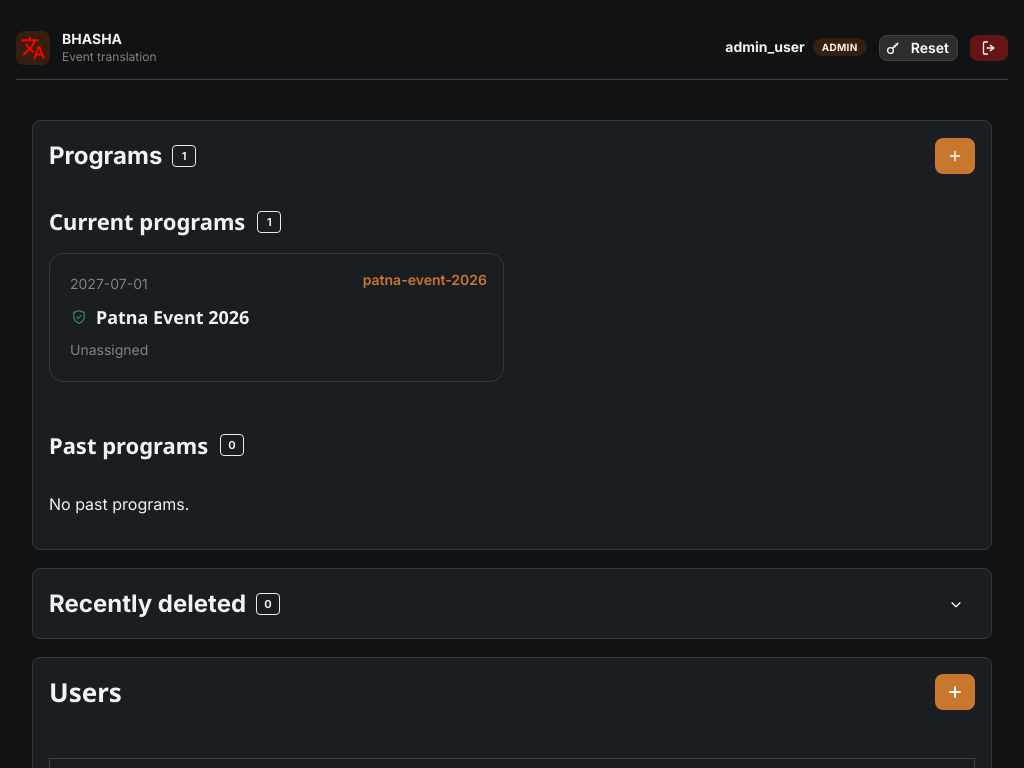
Test: AdminScreen › shows the add-program action for admin accounts (both roles can now create programs)
This screenshot has width=1024, height=768.
expect the heading "Patna Event 2026" is shown: met, box [96,304,249,330]
Click the button named "Add program".
click(955, 156)  # box [935,138,975,174]
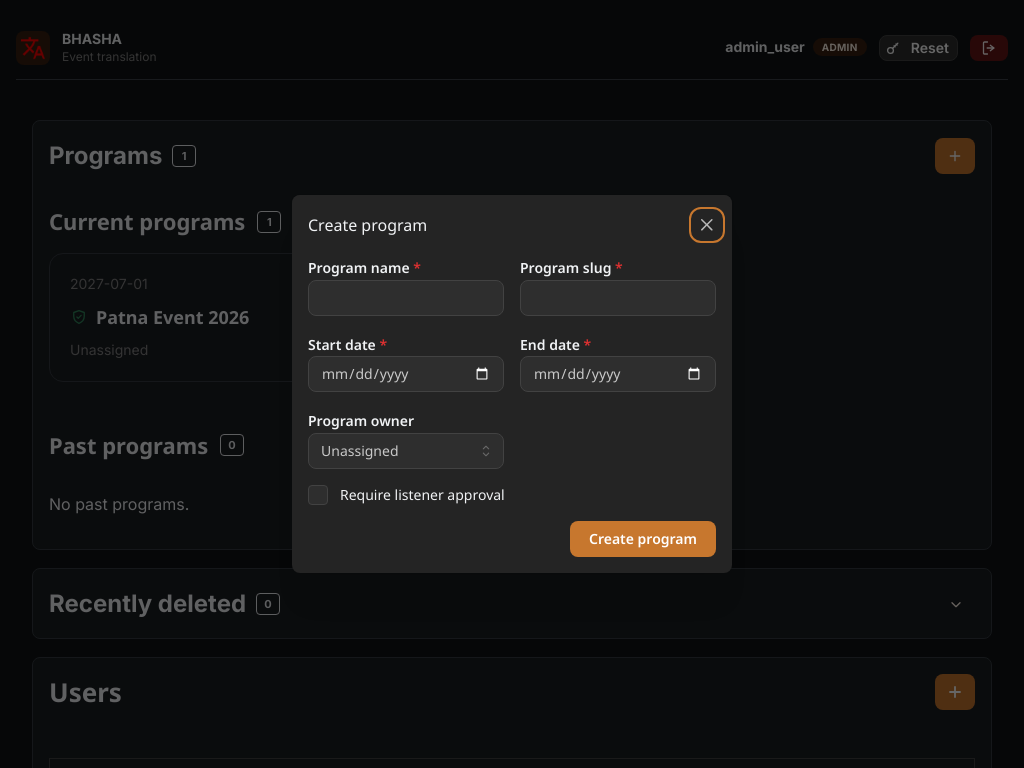
expect the field labelled "Program name" is shown: met, box [308,280,504,316]
expect the dropdown labelled "Program owner" is shown: met, box [308,433,504,469]
